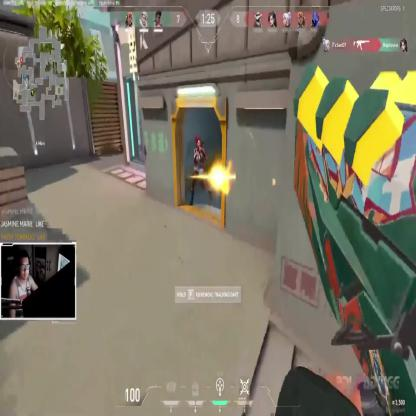enemy: (189, 135, 211, 207)
enemy_head: (196, 136, 203, 149)
